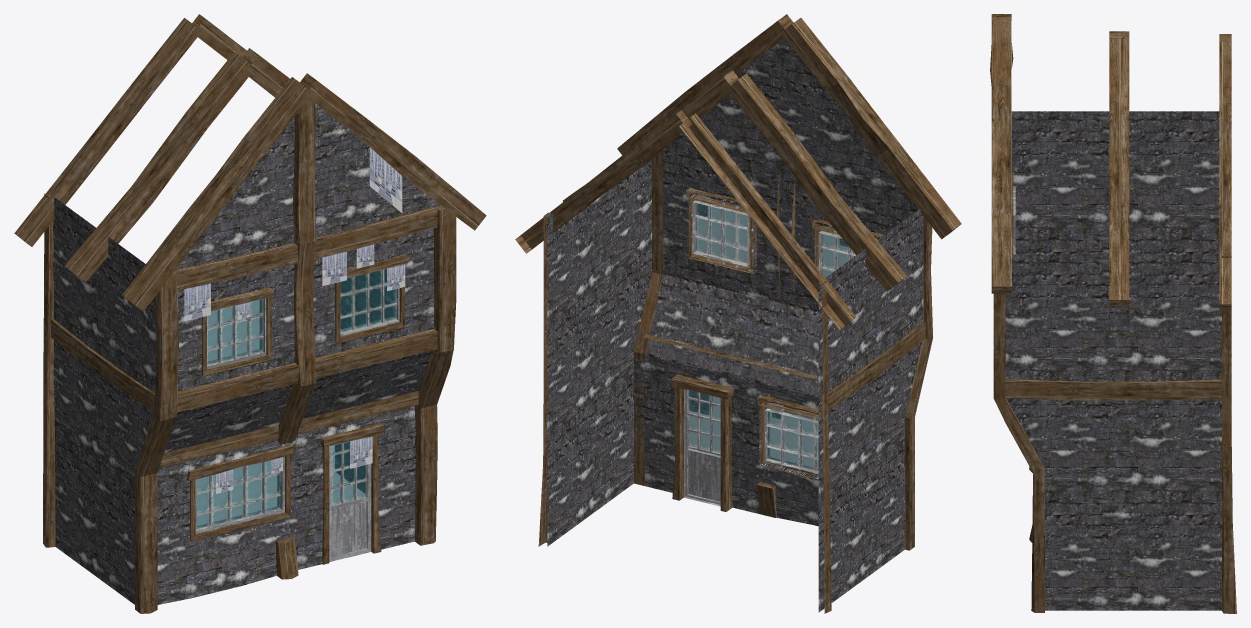
Rendered from build_1.fbx.
3 renders of one model, left to right at view 1: azimuth 30°, elevation 25°; view 2: azimuth 150°, elevation 25°; view 3: azimuth 270°, elevation 25°, orthographic. The views are drawn at different scales.
Visible parts, largest first — view 1: build_1; view 2: build_1; view 3: build_1.
Part boxes in pixels (left/top/right/bottom): build_1: left=14, top=14, right=486, bottom=613; build_1: left=515, top=14, right=961, bottom=613; build_1: left=990, top=14, right=1236, bottom=613.
Bounding box in the file's own units: 532 × 732 × 314.
